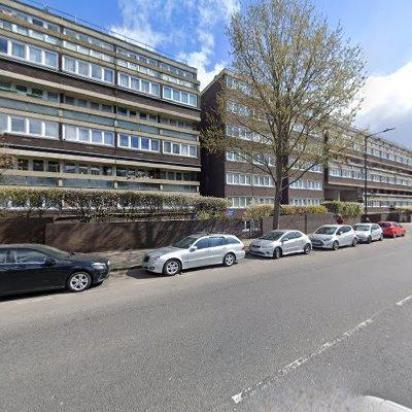stationary-car-onstreet: (0, 240, 112, 300), (142, 232, 246, 276), (247, 229, 313, 259), (310, 223, 358, 250), (350, 222, 385, 244), (374, 220, 408, 238)
